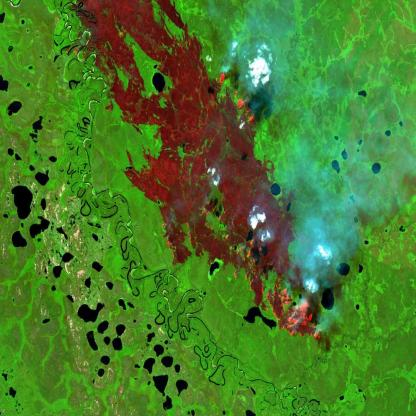fire: (214, 227, 324, 356), (214, 62, 260, 136)
